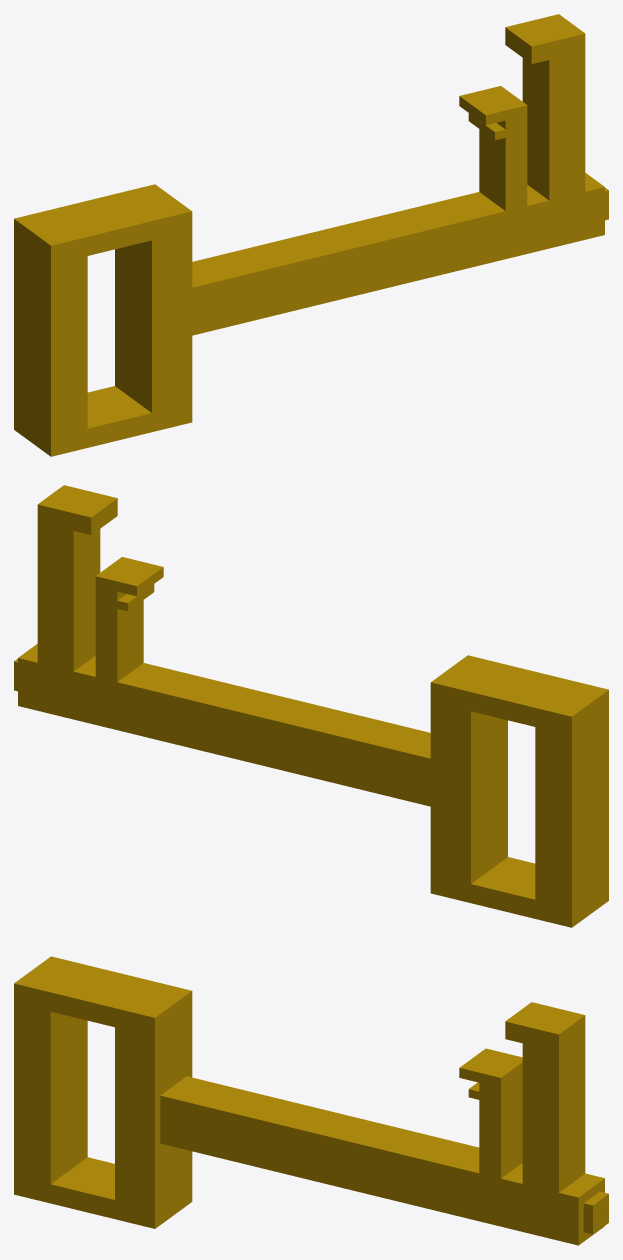
File: Key_Textured.fbx
3 renders of one model, top to bottom at view 1: azimuth 30°, elevation 25°; view 2: azimuth 150°, elevation 25°; view 3: azimuth 330°, elevation 25°, orthographic.
Parts seen in each view (by area): view 1: pCube3; view 2: pCube3; view 3: pCube3.
Part boxes in pixels (x1,y1,x2,y2): pCube3: (14,14,608,456); pCube3: (14,485,608,927); pCube3: (14,956,608,1245).
Bounding box in the file's own units: 1.24 × 0.6 × 0.14.
